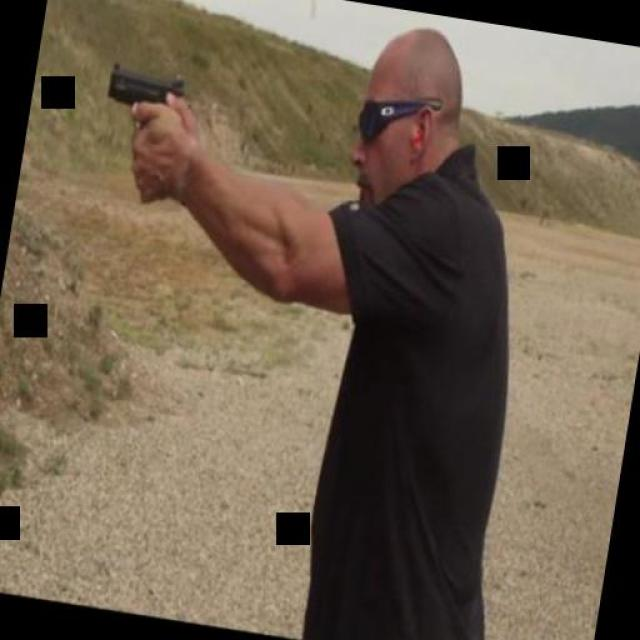gun: (86, 61, 192, 200)
